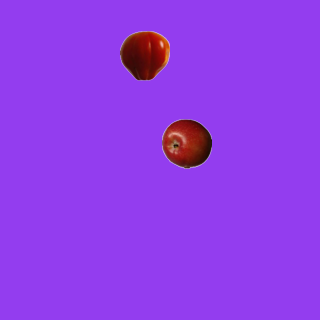Apple Braeburn: (161, 118, 211, 168)
Tomato 1: (119, 30, 169, 80)
